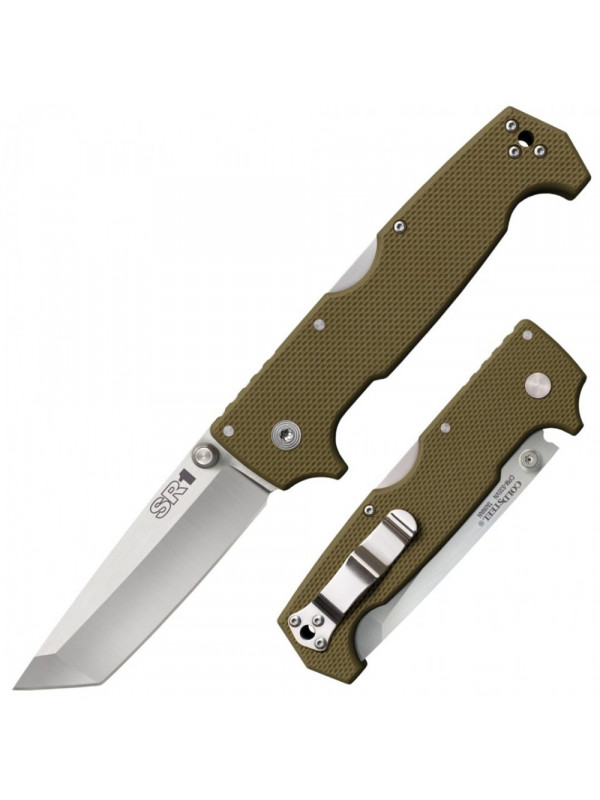knief: (38, 104, 591, 732)
